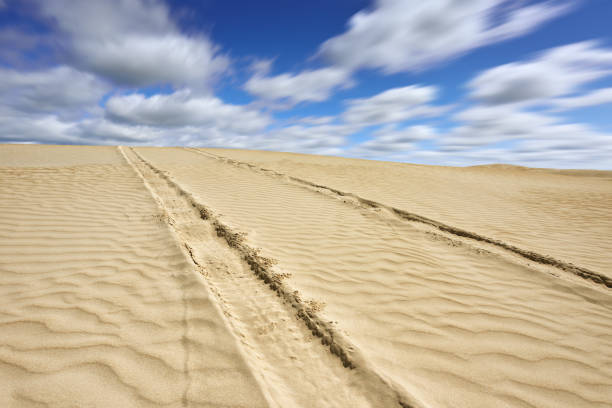vehicle_track: (121, 148, 419, 406), (185, 148, 611, 287)
